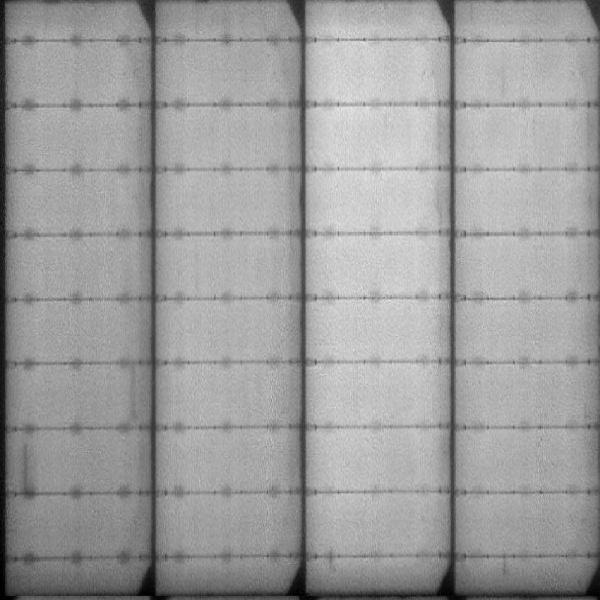scratch: (18, 441, 34, 496)
